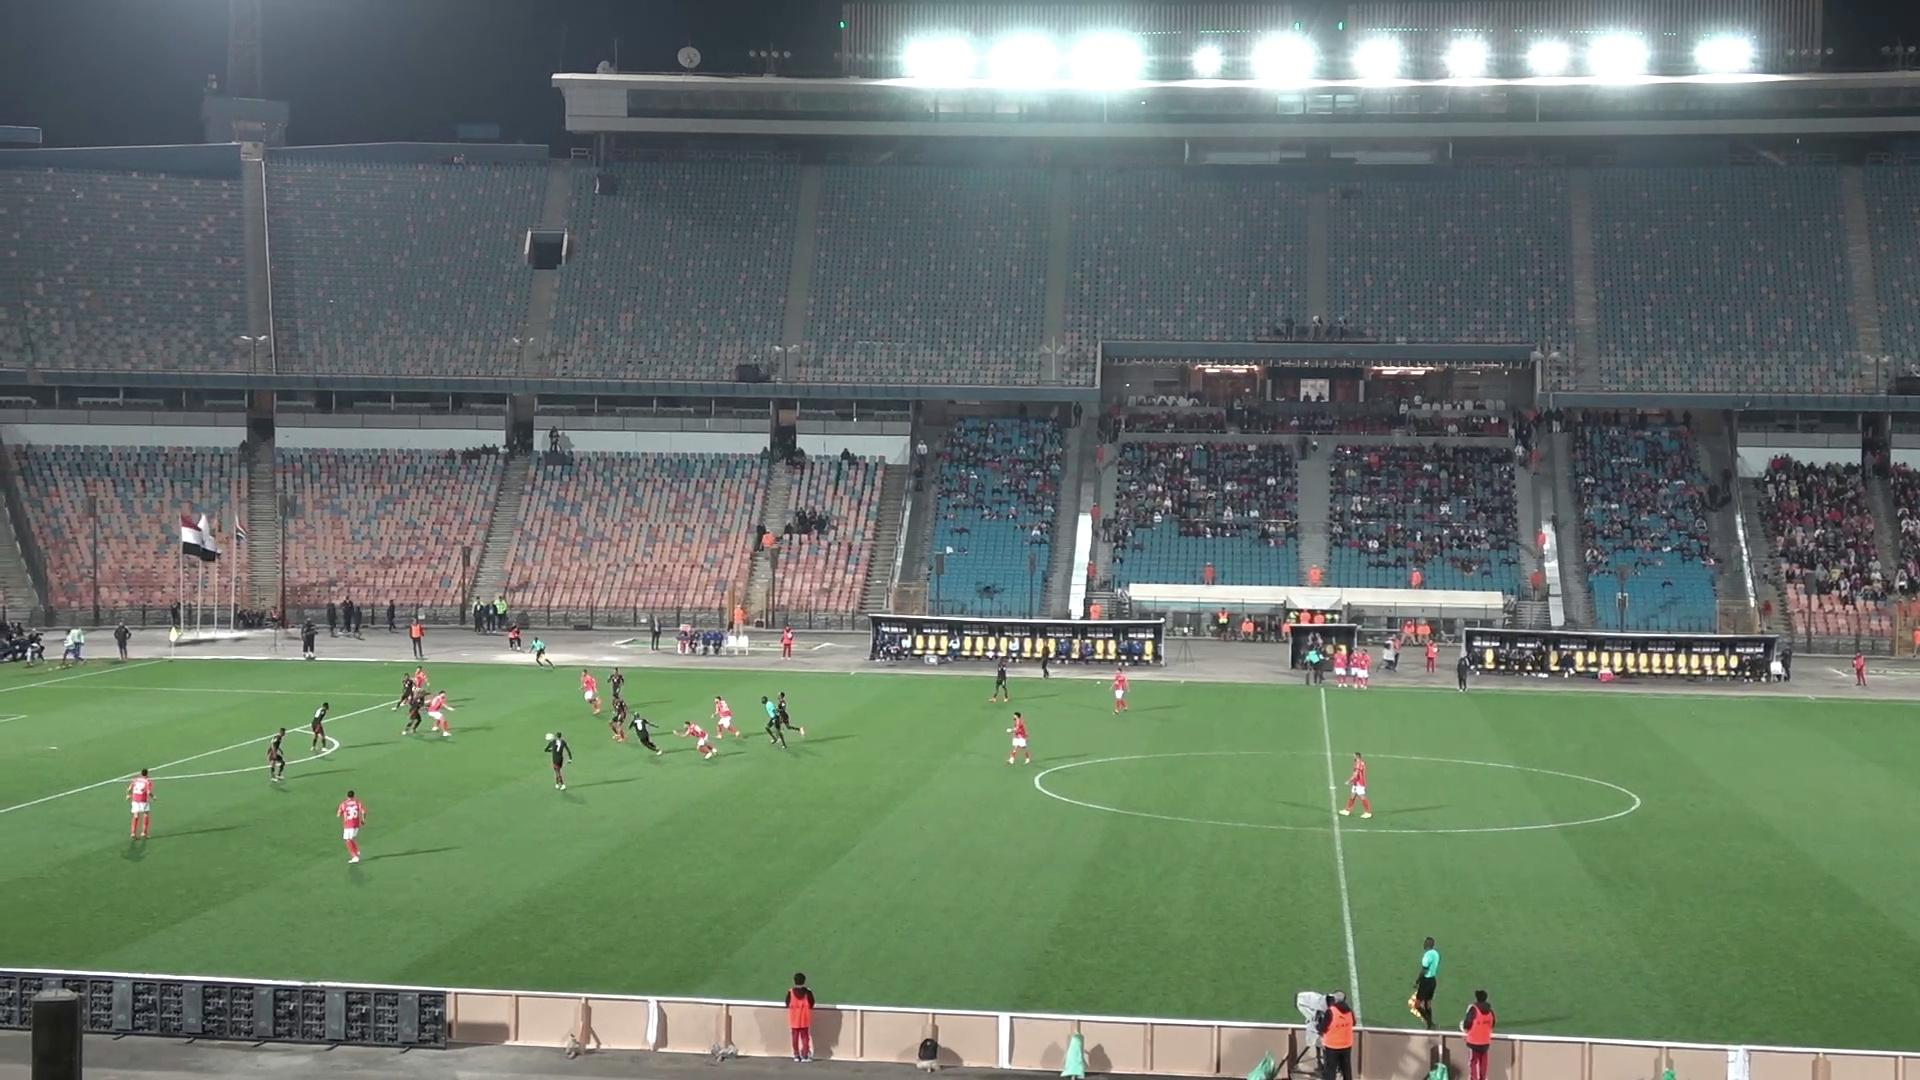Ball: (543, 727, 560, 752)
Refree: (1406, 936, 1441, 1029), (761, 698, 789, 749), (1300, 640, 1327, 683)
Team1: (127, 767, 154, 858), (1337, 752, 1371, 818), (338, 790, 367, 862), (1333, 647, 1371, 687), (676, 721, 716, 757), (425, 690, 454, 737), (518, 628, 551, 667), (713, 695, 742, 738), (1007, 712, 1031, 764), (582, 667, 603, 715), (1112, 663, 1130, 713), (407, 665, 430, 702)
Team2: (543, 732, 574, 790), (309, 702, 339, 756), (608, 673, 629, 741), (401, 680, 427, 735), (628, 711, 659, 756), (775, 691, 806, 735), (266, 727, 287, 782), (988, 657, 1011, 702), (396, 669, 419, 709), (607, 665, 625, 700)
